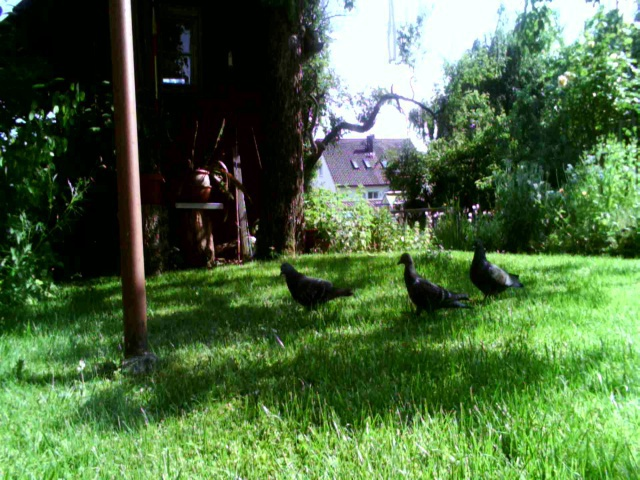Pigeon: (465, 236, 538, 311), (391, 252, 470, 319), (272, 263, 357, 318)
